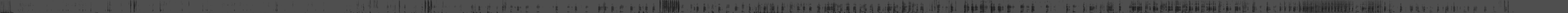Moan: (1137, 0, 1140, 13)
